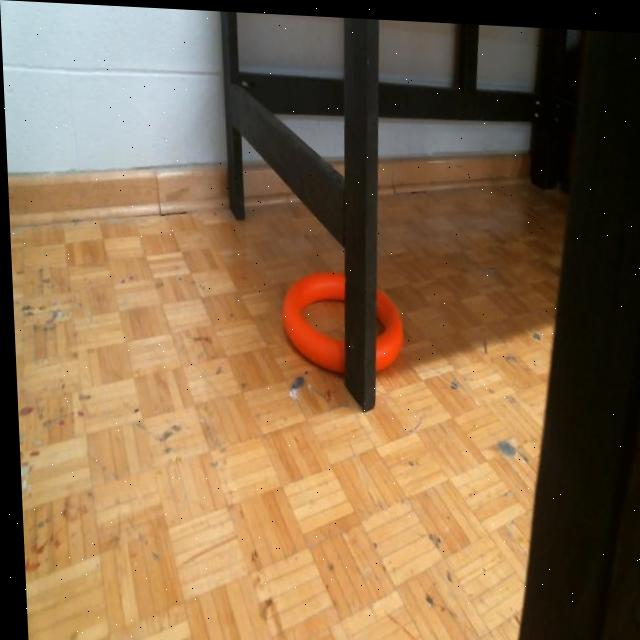note: (277, 261, 402, 372)
